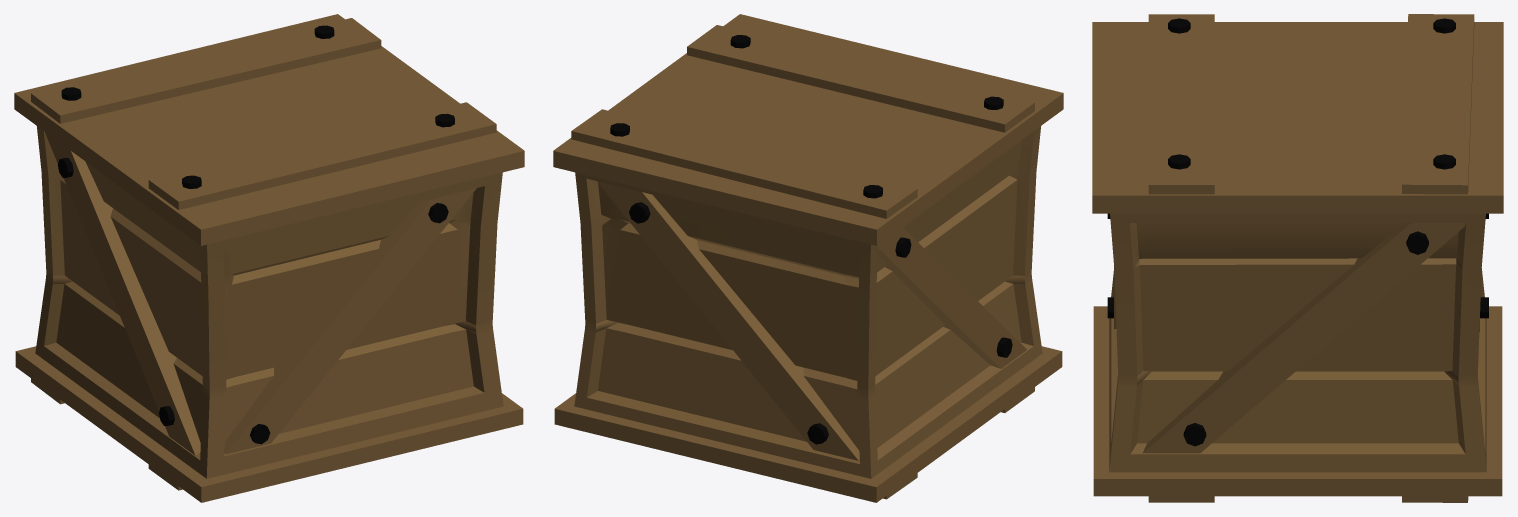
3 views of the same model, side by side, from view 1: azimuth 30°, elevation 25°; view 2: azimuth 150°, elevation 25°; view 3: azimuth 270°, elevation 25° (orthographic). The views are drawn at different scales.
Parts seen in each view (by area): view 1: box2; view 2: box2; view 3: box2.
Boxes of the visible parts, bbox=[...] form: box2: bbox=[14, 14, 524, 502]; box2: bbox=[553, 14, 1063, 502]; box2: bbox=[1092, 14, 1503, 502].
Bounding box in the file's own units: 80.46 × 80.46 × 70.95.
